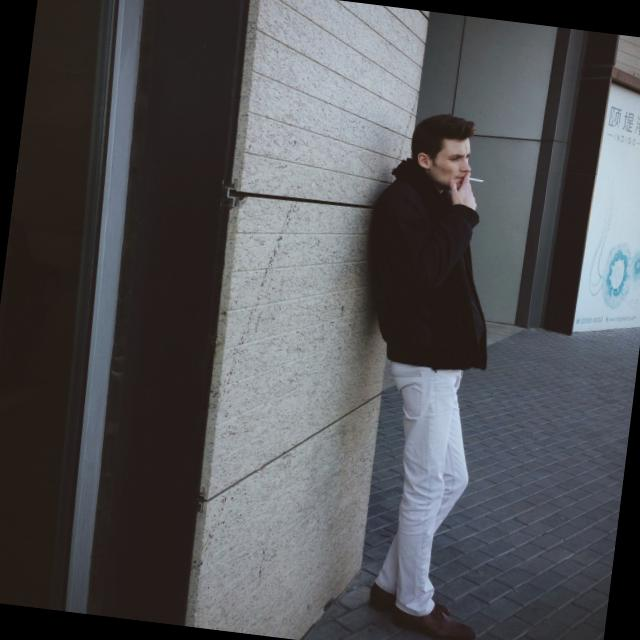smoke: (463, 170, 487, 190)
